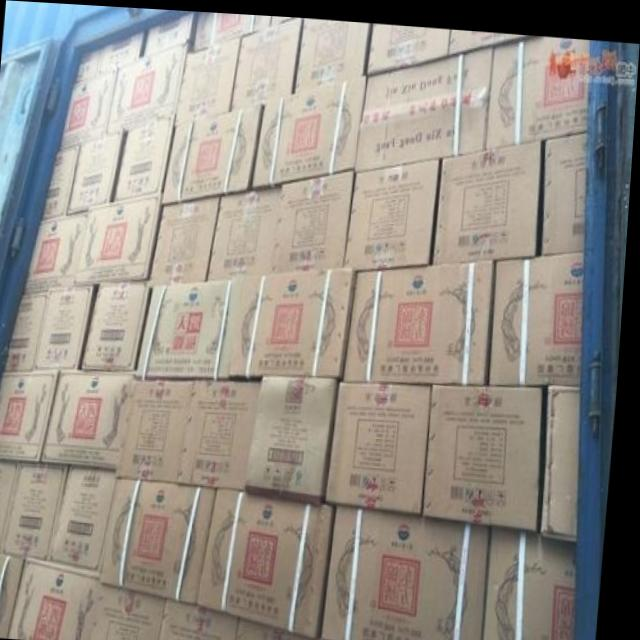box: (330, 499, 497, 640), (204, 483, 342, 637), (345, 254, 496, 377), (355, 40, 493, 166), (428, 379, 547, 524), (106, 475, 222, 602), (434, 132, 546, 260), (232, 263, 358, 376), (329, 376, 435, 510), (253, 69, 367, 185), (493, 243, 588, 378), (250, 372, 342, 498), (488, 29, 589, 142), (344, 151, 442, 267), (491, 519, 583, 640), (163, 95, 266, 203), (140, 274, 242, 377), (44, 367, 140, 468), (181, 374, 266, 487), (276, 166, 355, 269), (76, 190, 163, 283), (124, 375, 199, 480), (107, 39, 189, 133), (16, 555, 106, 640), (55, 463, 123, 573), (211, 179, 282, 273), (8, 460, 75, 558), (85, 276, 154, 370), (546, 377, 587, 534), (231, 15, 301, 105), (0, 367, 65, 461), (175, 34, 242, 125), (152, 192, 222, 278), (543, 125, 590, 248), (293, 14, 370, 89), (36, 280, 100, 370), (112, 115, 176, 200), (26, 209, 89, 291), (59, 65, 118, 149), (68, 127, 125, 213), (96, 582, 173, 640), (367, 18, 451, 69), (8, 286, 54, 370), (167, 596, 248, 640), (0, 549, 33, 638), (43, 142, 80, 220), (449, 23, 540, 51), (192, 9, 254, 49), (140, 10, 192, 56), (244, 615, 330, 640), (0, 459, 23, 551), (97, 29, 144, 72), (74, 44, 100, 80), (251, 12, 271, 29), (270, 13, 296, 24)
